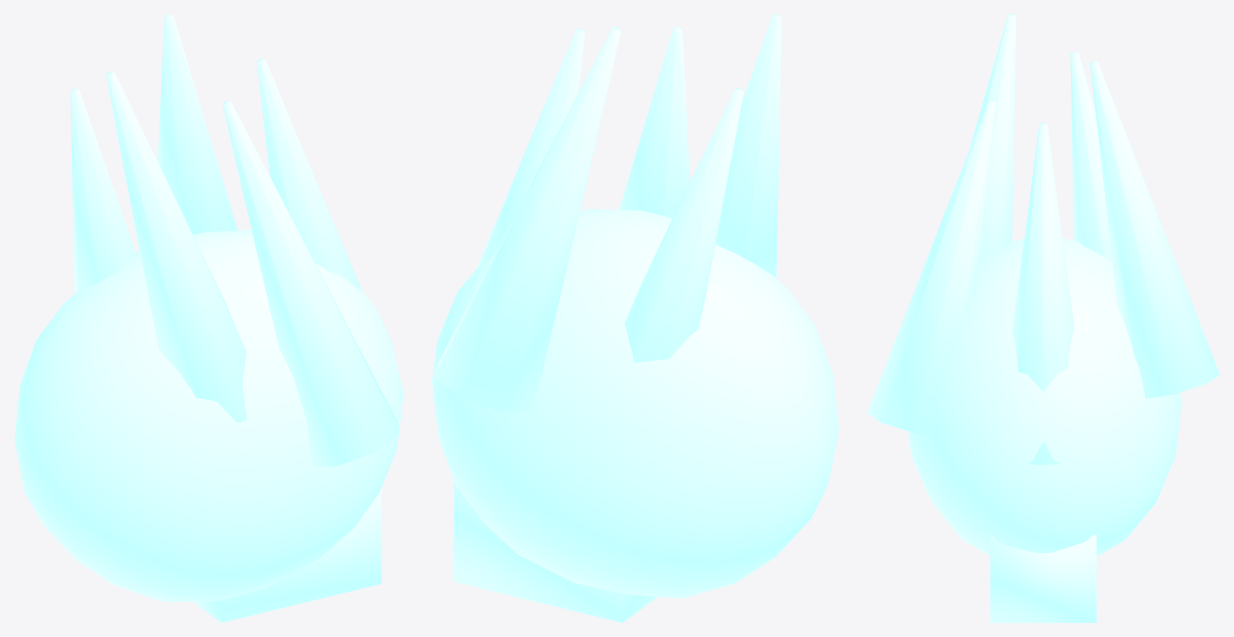
Rendered from SM_Familiar_SpectralSkull.fbx.
3 renders of one model, left to right at view 1: azimuth 30°, elevation 25°; view 2: azimuth 150°, elevation 25°; view 3: azimuth 270°, elevation 25°, orthographic. The views are drawn at different scales.
Visible parts, largest first — view 1: Icosphere; view 2: Icosphere; view 3: Icosphere.
Part boxes in pixels (x1,y1,x2,y2): Icosphere: [14, 14, 403, 622]; Icosphere: [432, 14, 838, 622]; Icosphere: [867, 14, 1219, 622].
Size of the model in its own units: 0.334 by 0.3462 by 0.52.
